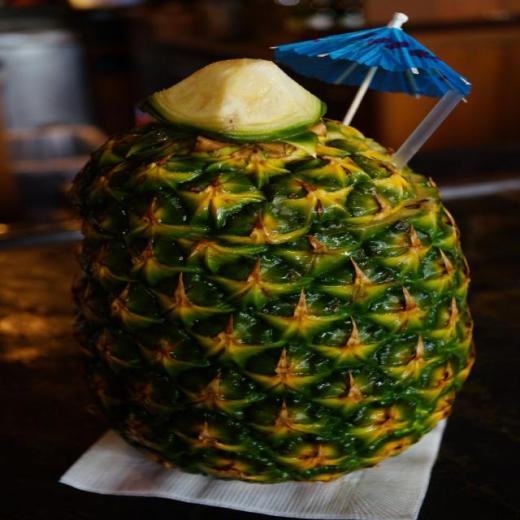Mango: (69, 58, 477, 485)
